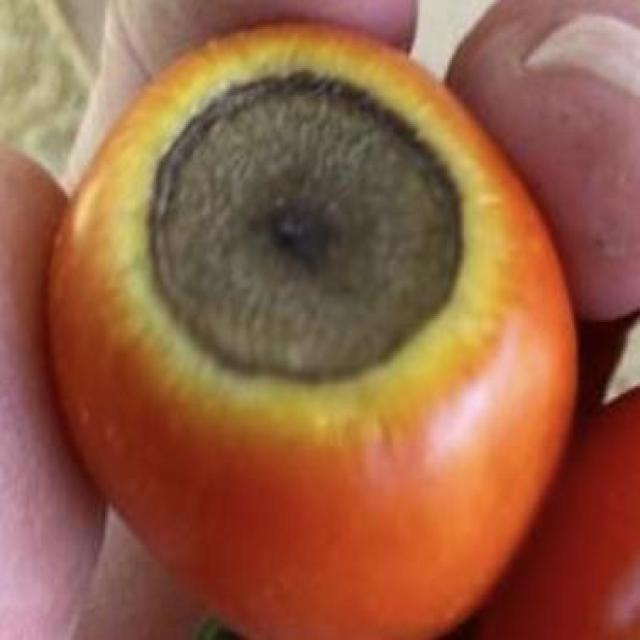Blossom End Rot Fruit: (86, 45, 314, 275)
